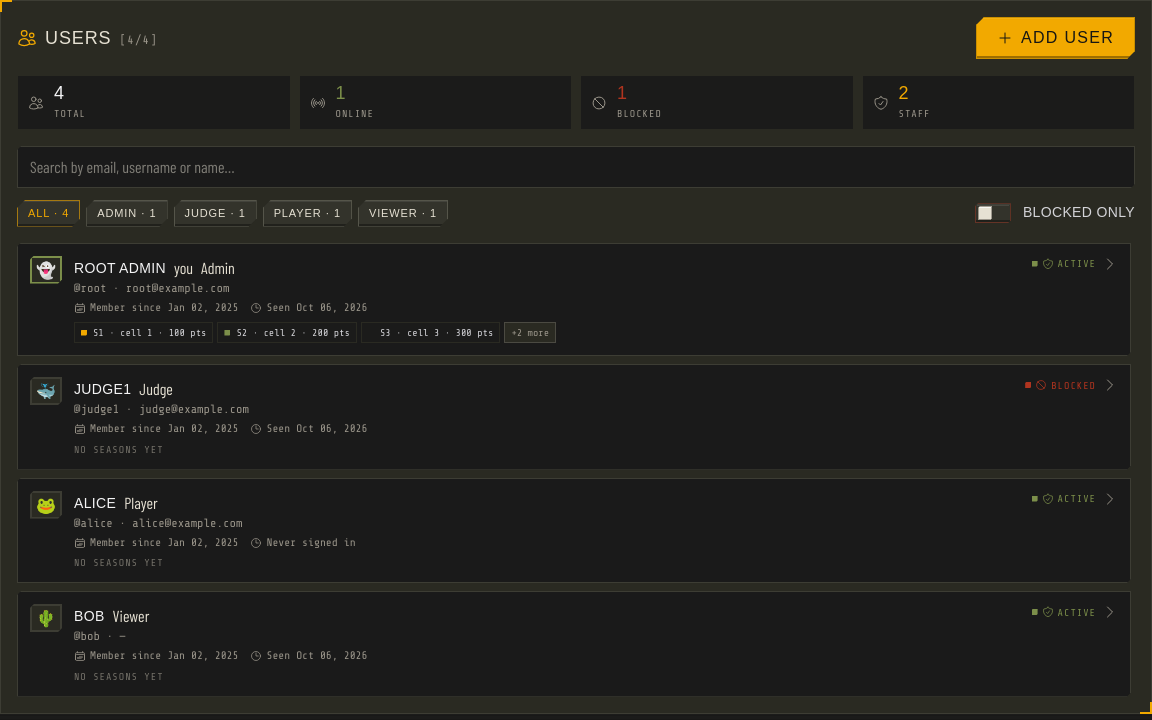
Test case: UsersManager › shrinks the header count as the text filter narrows by username/email/displayName
The image size is (1152, 720).
Step 1. Type "alice" into the field with placeholder "Search by email, username or name…" → [576, 167], box [17, 146, 1135, 188]
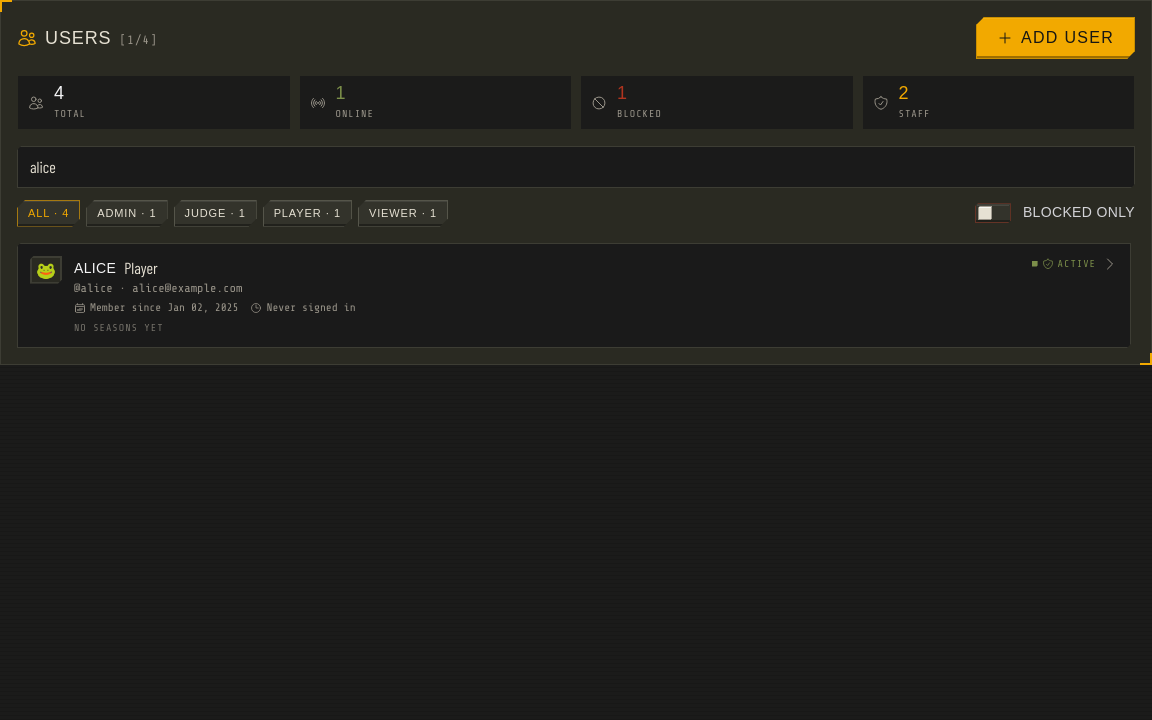
Expected: the link shows "Alice", [17, 242, 1131, 348]
Expected: the text "[1/4]" is shown, [120, 33, 158, 47]
Step 2. Replace the text in the field with placeholder "Search by email, username or name…" with "judge@" → [576, 167], box [17, 146, 1135, 188]
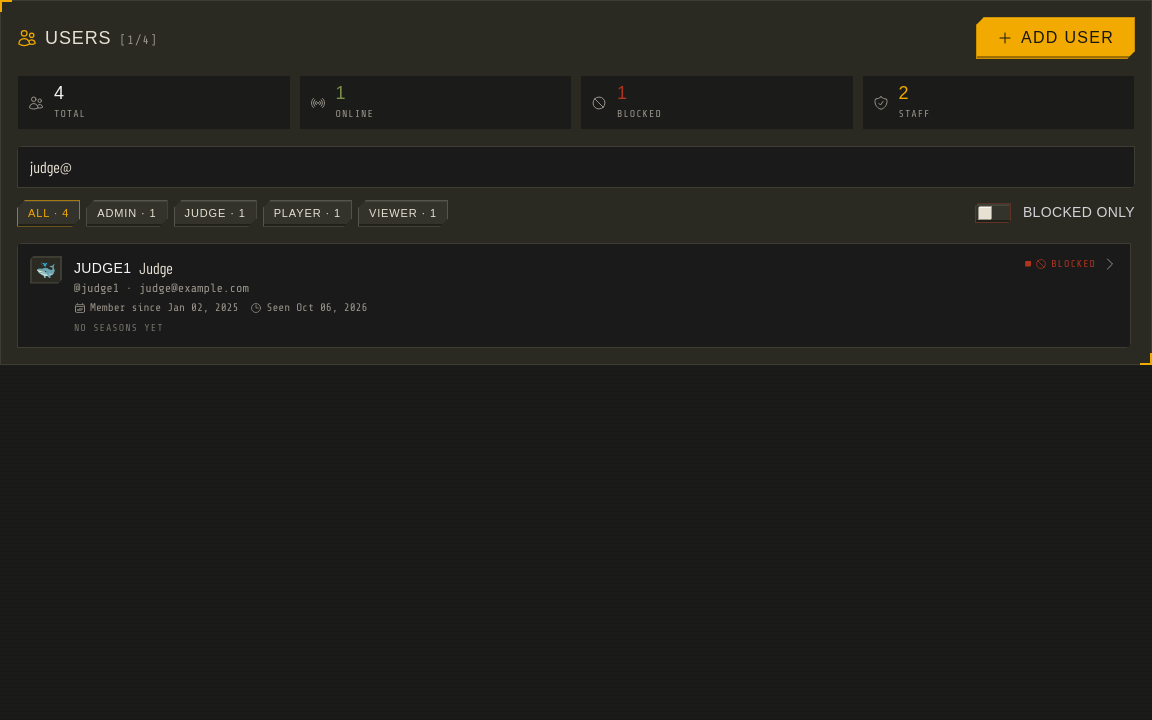
Expected: the text "[1/4]" is shown, [120, 33, 158, 47]
Expected: the link shows "judge1", [17, 242, 1131, 348]
Step 3. Replace the text in the field with placeholder "Search by email, username or name…" with "Root" → [576, 167], box [17, 146, 1135, 188]
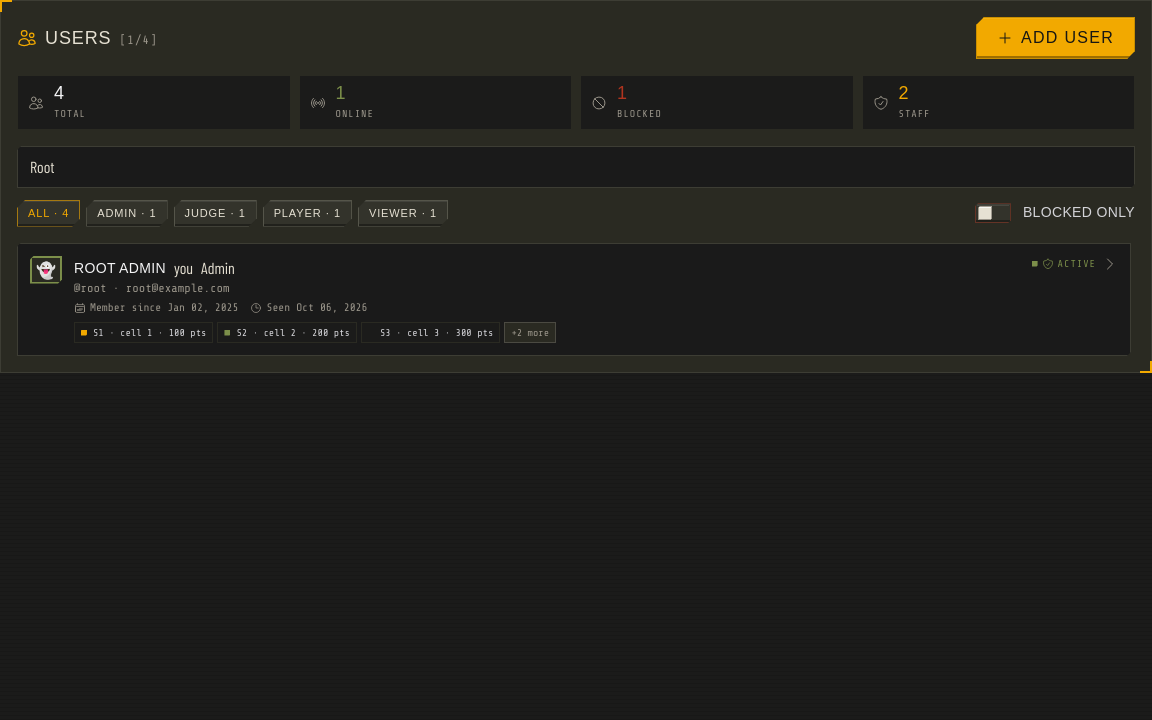
Expected: the text "[1/4]" is shown, [120, 33, 158, 47]
Step 4. Replace the text in the field with placeholder "Search by email, username or name…" with "nobody" → [576, 167], box [17, 146, 1135, 188]
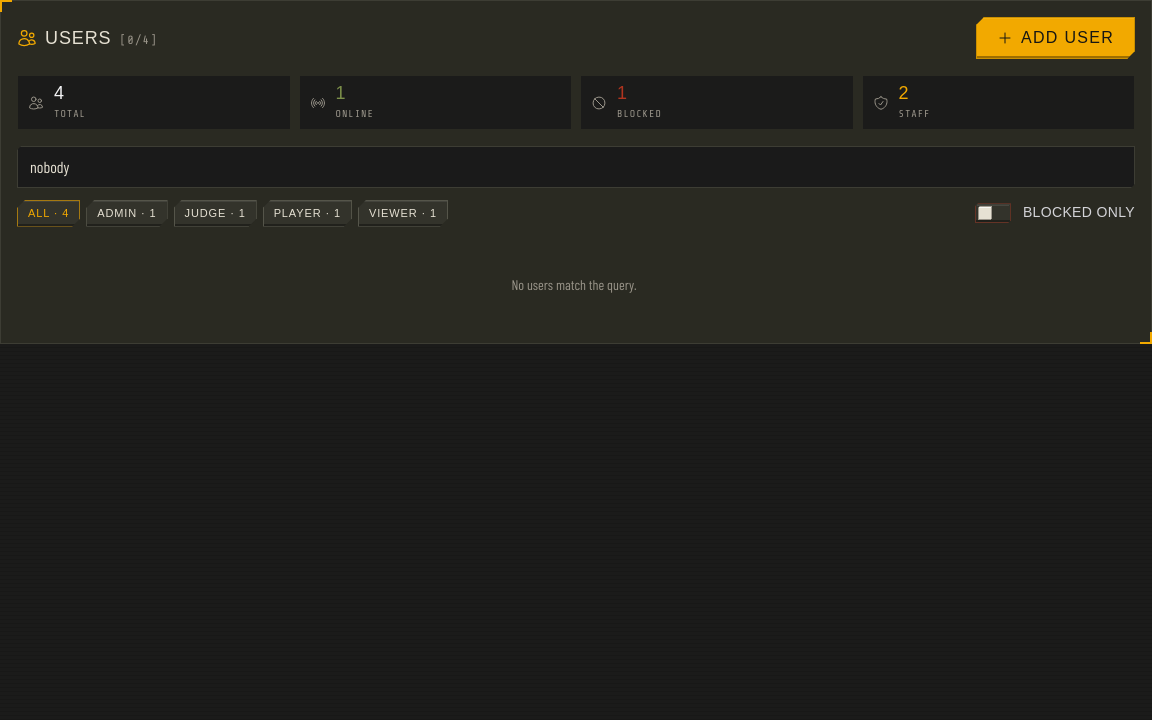
Expected: the text "[0/4]" is shown, [120, 33, 158, 47]
Expected: the text "No users match the query." is shown, [511, 276, 637, 292]
